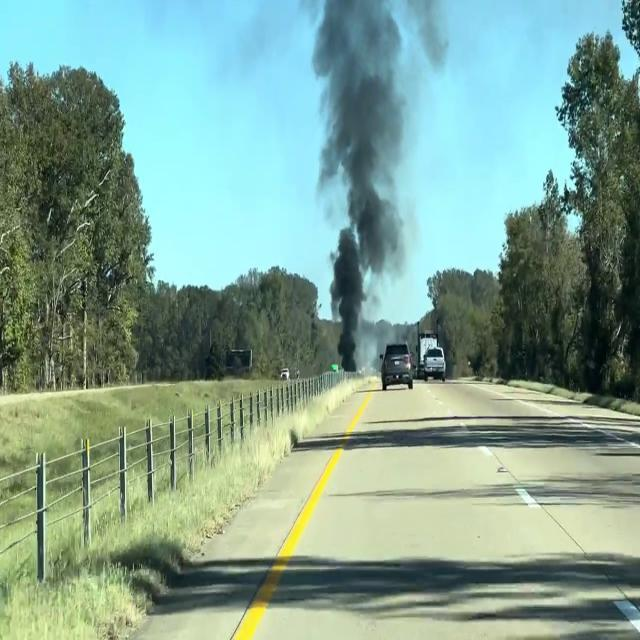Smoke: (304, 0, 422, 361)
